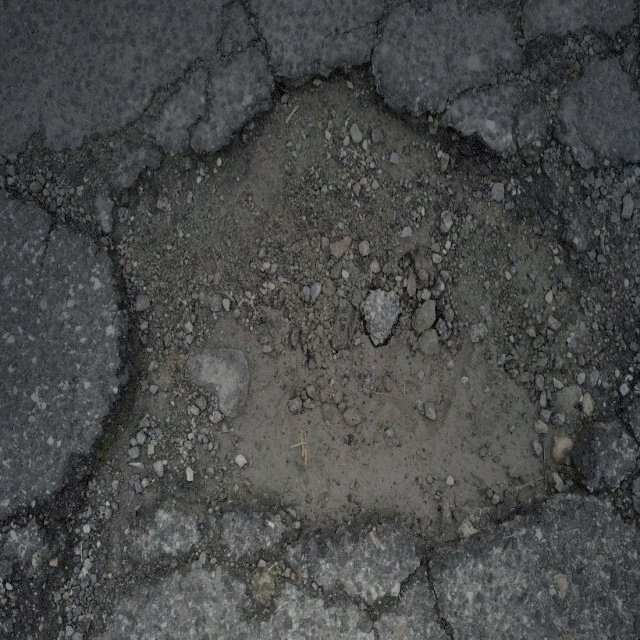pothole: (100, 53, 609, 568)
